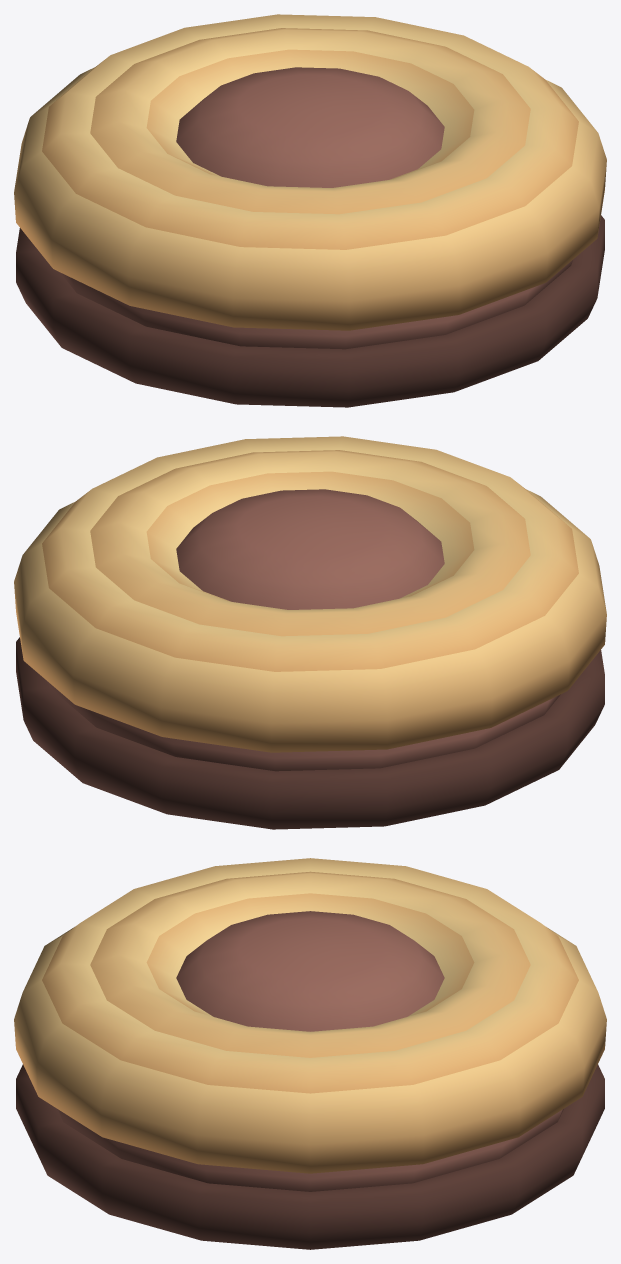
Rendered from SM_Cookie.fbx.
3 views of the same model, one above another, from view 1: azimuth 30°, elevation 25°; view 2: azimuth 150°, elevation 25°; view 3: azimuth 270°, elevation 25° (orthographic).
Parts seen in each view (by area): view 1: SM_Cookie; view 2: SM_Cookie; view 3: SM_Cookie.
Part boxes in pixels (<box>): SM_Cookie: <box>14,14,606,407</box>; SM_Cookie: <box>14,436,606,829</box>; SM_Cookie: <box>14,858,606,1249</box>.
Size of the model in its own units: 45.85 by 16.48 by 45.85.
